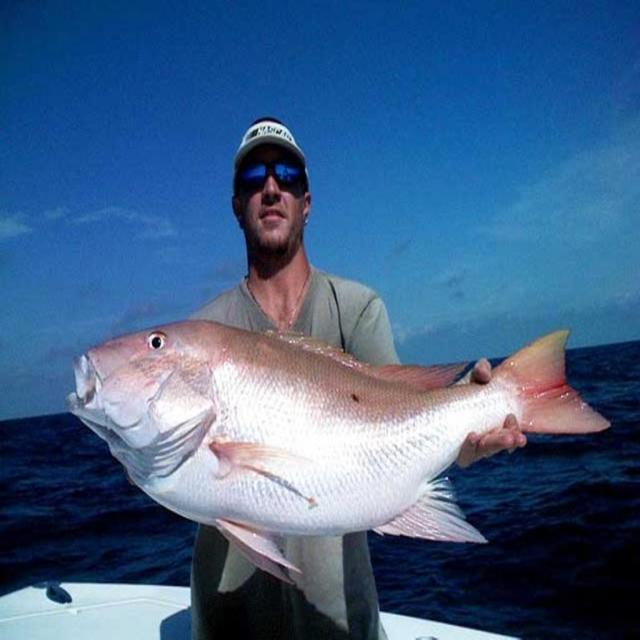Face: (234, 144, 312, 262)
